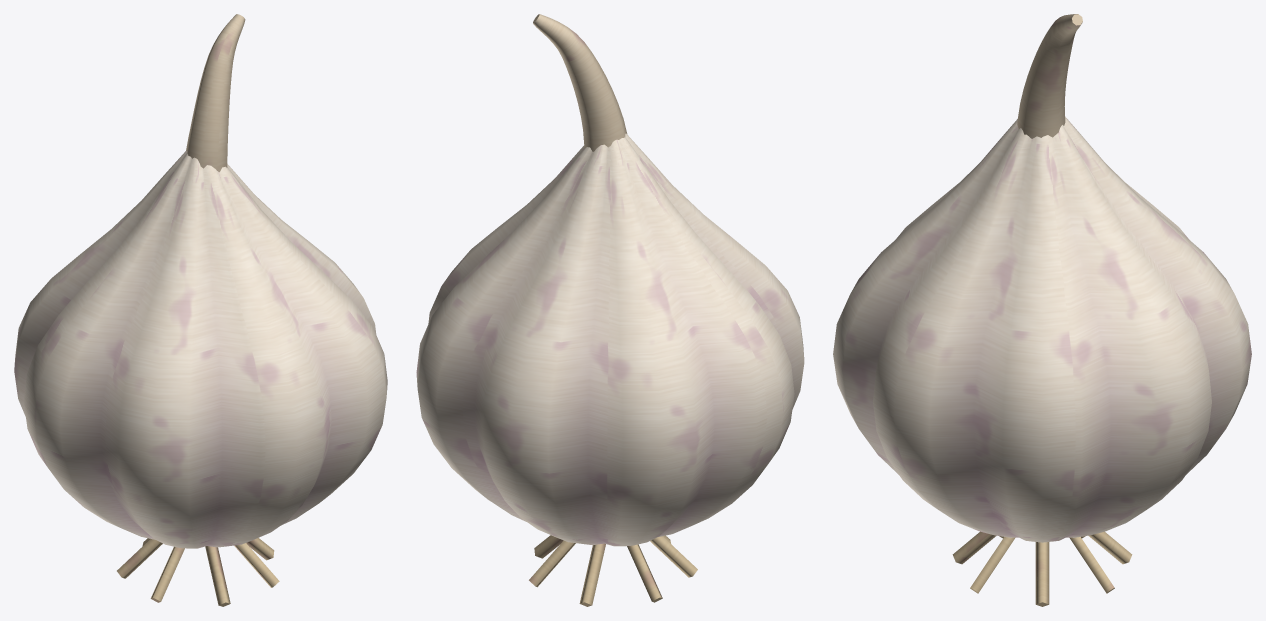
File: 28e83cdb-7037-4668-8f4a-dcc5a5ba32c4.glb
3 renders of one model, left to right at view 1: azimuth 30°, elevation 25°; view 2: azimuth 150°, elevation 25°; view 3: azimuth 270°, elevation 25°, orthographic. The views are drawn at different scales.
Visible parts, largest first — view 1: Body; view 2: Body; view 3: Body.
Part boxes in pixels (x1,y1,x2,y2): Body: (14, 14, 387, 606); Body: (416, 14, 804, 606); Body: (833, 14, 1251, 606).
Size of the model in its own units: 0.48 by 0.741 by 0.48.
Materials: 1 (1 with a texture image).
